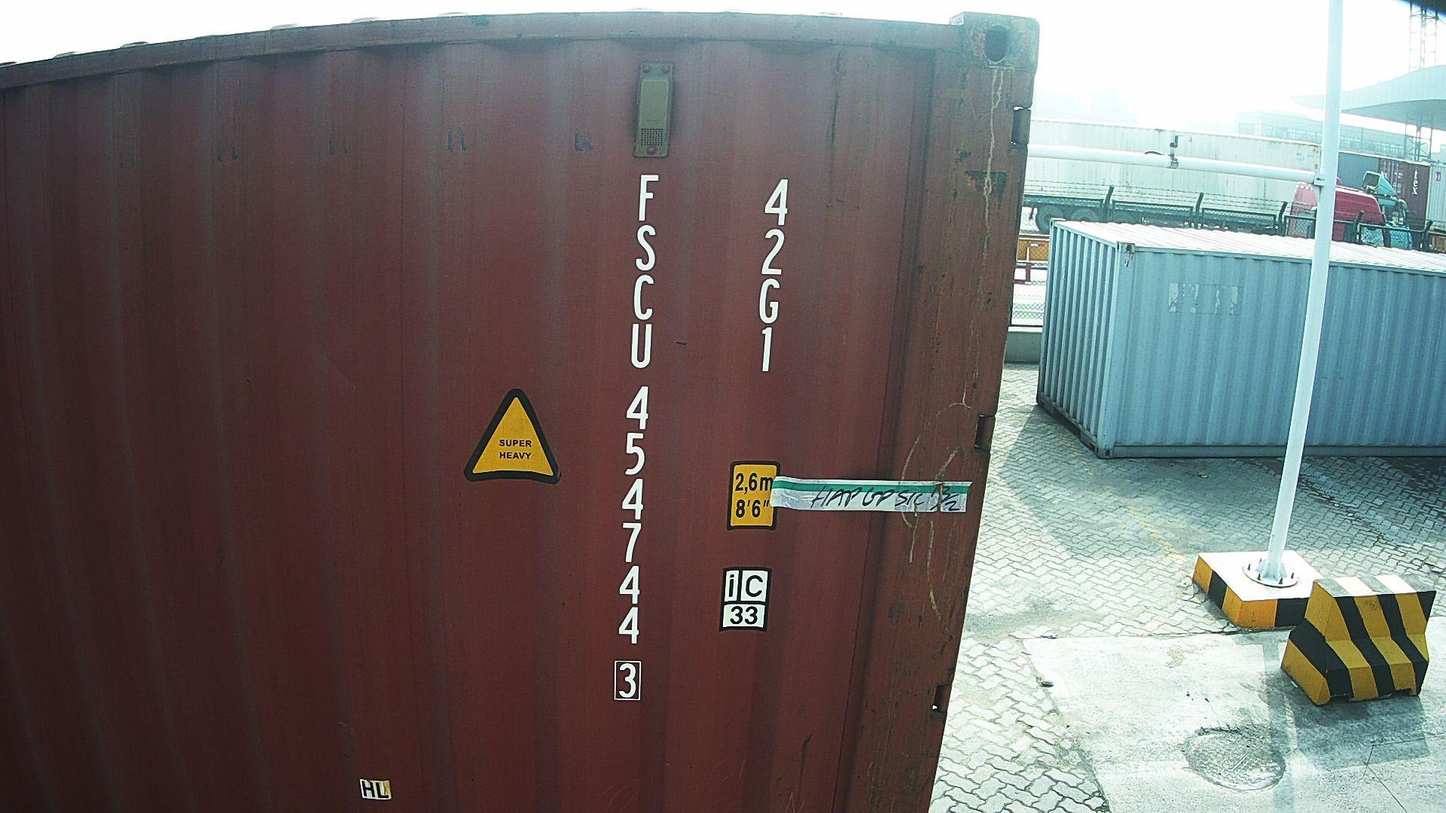container-numbers: (605, 169, 669, 713), (752, 173, 800, 381)
